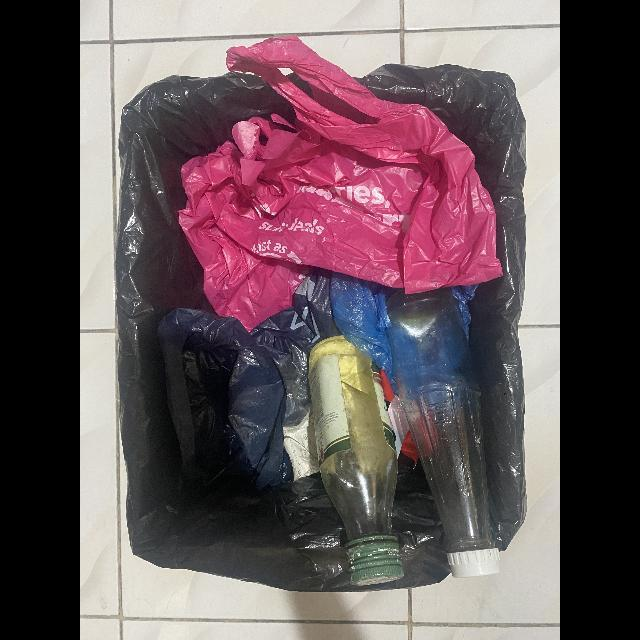glass: (386, 287, 501, 579), (307, 337, 404, 584)
plastic: (179, 37, 502, 335), (155, 310, 286, 548), (248, 267, 342, 533), (328, 271, 399, 392)
